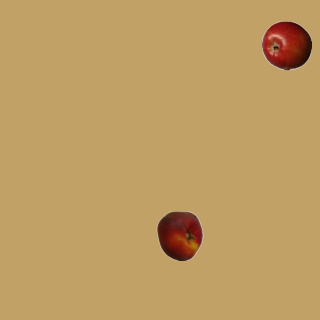Apple Braeburn: (261, 20, 311, 70)
Nectarine Flat: (154, 210, 204, 260)
